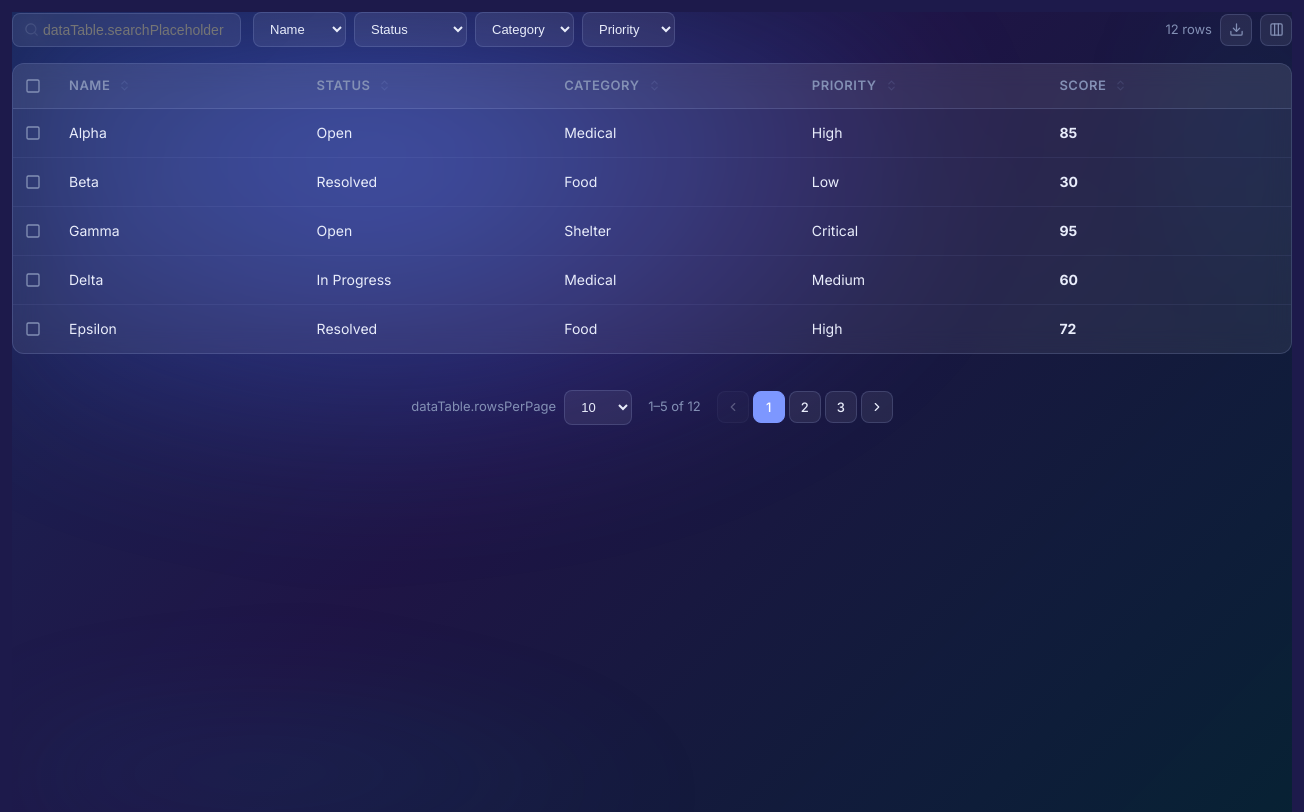
Test: DataTable › Bulk Actions › toggles individual row selection on click
Click the checkbox with class "dt-check-btn" next to "Alpha": (33, 132) x1=21 y1=120 x2=45 y2=144
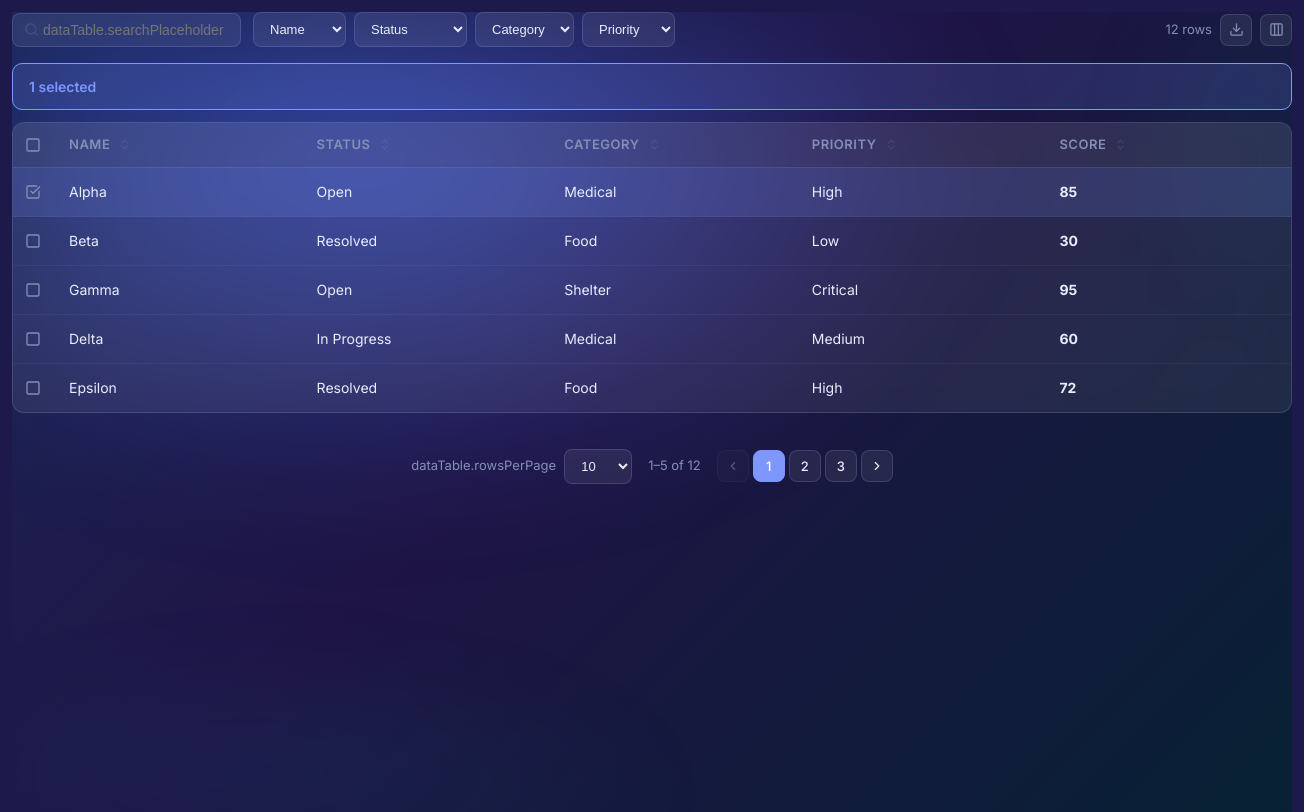
Now the text "1 selected" is shown, box x1=29 y1=76 x2=96 y2=97
Click the 1st checkbox with class "dt-check-btn": (33, 192) x1=21 y1=180 x2=45 y2=204
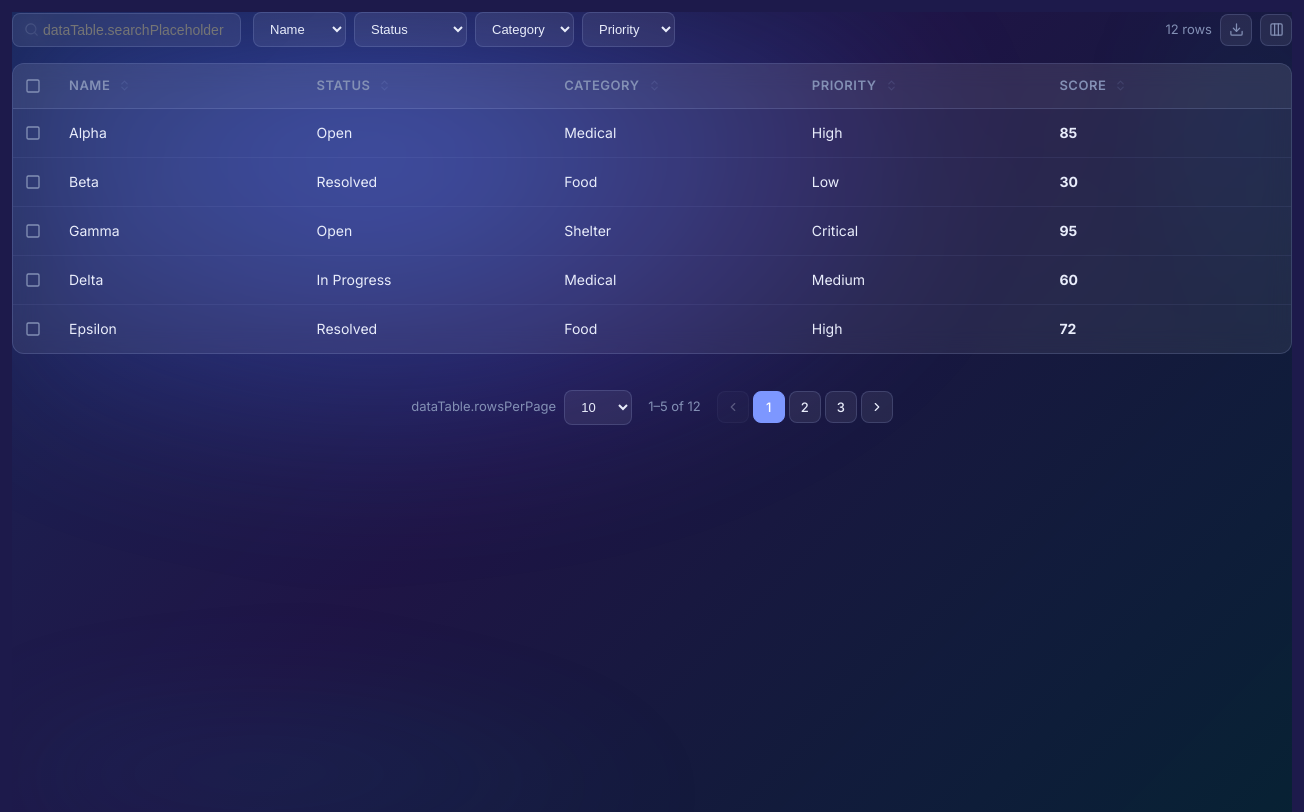
Now the element with class "dt-bulk-bar" is gone
